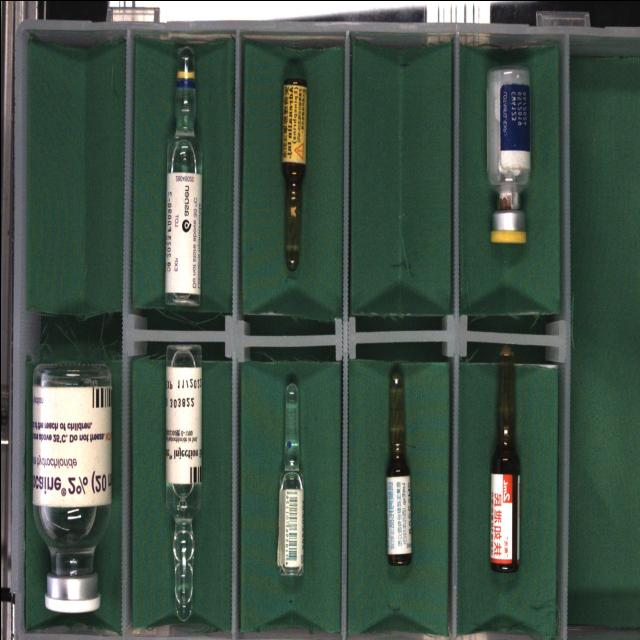Vials: (31, 363, 111, 612), (486, 66, 529, 243)
